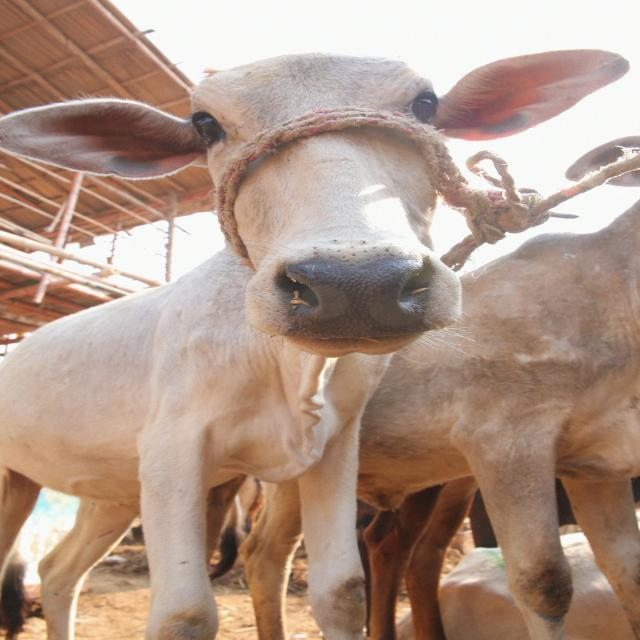muzzles: (252, 248, 452, 344)
